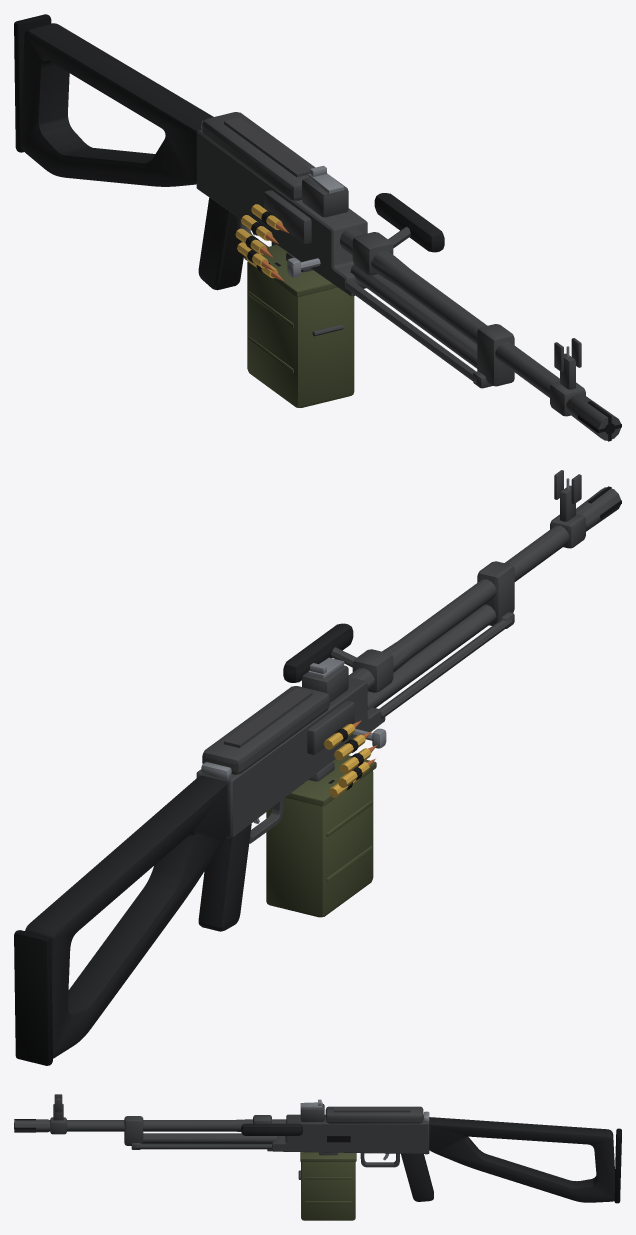
The model's file is machine_gun.glb.
3 renders of one model, top to bottom at view 1: azimuth 30°, elevation 25°; view 2: azimuth 150°, elevation 25°; view 3: azimuth 270°, elevation 25°, orthographic. The views are drawn at different scales.
Parts seen in each view (by area): view 1: machine_gun_body, magazine, bipod_leg_r; view 2: machine_gun_body, magazine, bipod_leg_r; view 3: machine_gun_body, magazine, bipod_leg_l.
Part boxes in pixels (box(x1,y1,x2,y2)): machine_gun_body: box(14, 14, 621, 441); magazine: box(235, 204, 354, 407); bipod_leg_r: box(345, 280, 476, 383); machine_gun_body: box(14, 470, 621, 1065); magazine: box(266, 720, 377, 917); bipod_leg_r: box(379, 619, 511, 723); machine_gun_body: box(14, 1094, 621, 1203); magazine: box(298, 1152, 356, 1220); bipod_leg_l: box(136, 1144, 272, 1151).
Bounding box in the file's own units: 0.1418 × 0.277 × 1.28.
